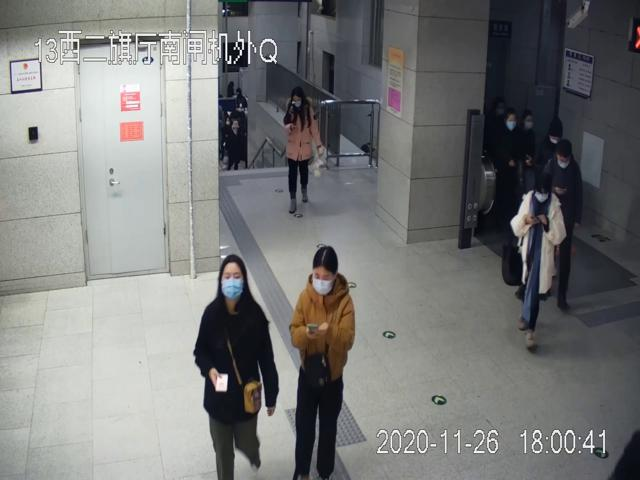person: (195, 254, 279, 480), (290, 245, 357, 480), (511, 178, 565, 348), (284, 87, 325, 212)
